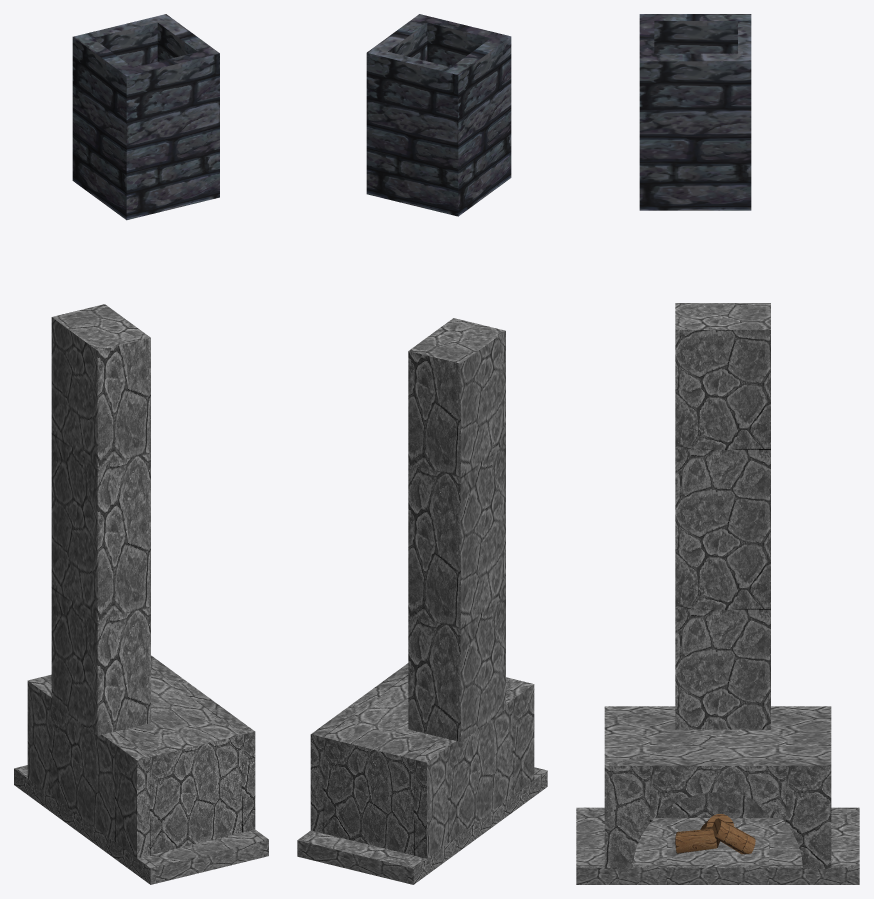
File: Kamin.FBX
The picture shows the model from 3 angles, left to right: view 1: azimuth 30°, elevation 25°; view 2: azimuth 150°, elevation 25°; view 3: azimuth 270°, elevation 25°; orthographic projection. The views are drawn at different scales.
Parts seen in each view (by area): view 1: Box047, Box046, Kaminende, Box045; view 2: Box047, Box046, Kaminende, Box045; view 3: Box047, Box046, Kaminende, Box045, Cylinder002, Cylinder001.
Boxes of the visible parts, x1,y1,x2,y2 form: Box047: [51, 304, 150, 735]; Box046: [27, 655, 255, 858]; Kaminende: [72, 14, 219, 220]; Box045: [14, 765, 268, 884]; Box047: [408, 318, 505, 741]; Box046: [310, 663, 534, 858]; Kaminende: [366, 14, 511, 216]; Box045: [297, 767, 547, 884]; Box047: [675, 303, 770, 729]; Box046: [604, 706, 831, 868]; Kaminende: [639, 14, 751, 210]; Box045: [576, 807, 859, 884]; Cylinder002: [712, 818, 755, 854]; Cylinder001: [675, 829, 719, 853].
Bounding box in the file's own units: 31.96 × 194 × 61.18.
Materials: 3 (3 with a texture image).
